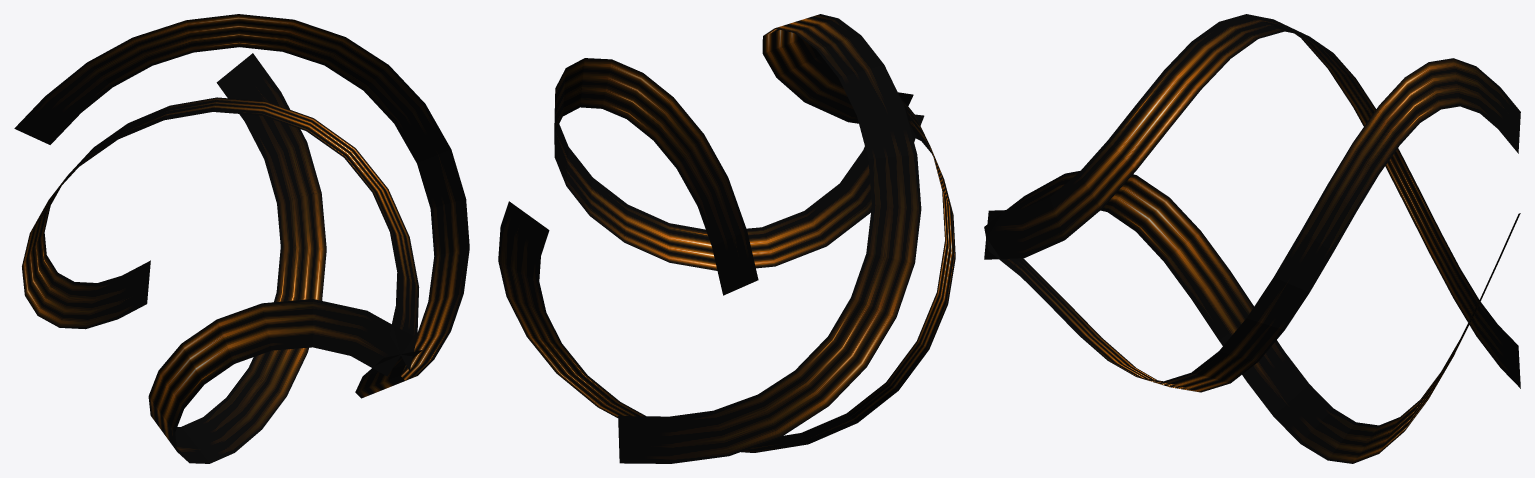
Rendered from tx_knight_mianshanghudun_fire.obj.
The picture shows the model from 3 angles, left to right: view 1: azimuth 30°, elevation 25°; view 2: azimuth 150°, elevation 25°; view 3: azimuth 270°, elevation 25°; orthographic projection. The views are drawn at different scales.
Visible parts, largest first — view 1: Plane06, Plane07, Plane08; view 2: Plane08, Plane07, Plane06; view 3: Plane08, Plane07, Plane06.
Part boxes in pixels (x1,y1,x2,y2): Plane06: [148, 53, 413, 463]; Plane07: [14, 14, 469, 398]; Plane08: [22, 97, 419, 370]; Plane08: [618, 14, 921, 463]; Plane07: [554, 58, 924, 295]; Plane06: [498, 96, 955, 452]; Plane08: [984, 14, 1520, 388]; Plane07: [986, 58, 1520, 392]; Plane06: [984, 170, 1520, 463].
Size of the model in its own units: 98.66 by 95.25 by 118.
1 material, 1 textured.
